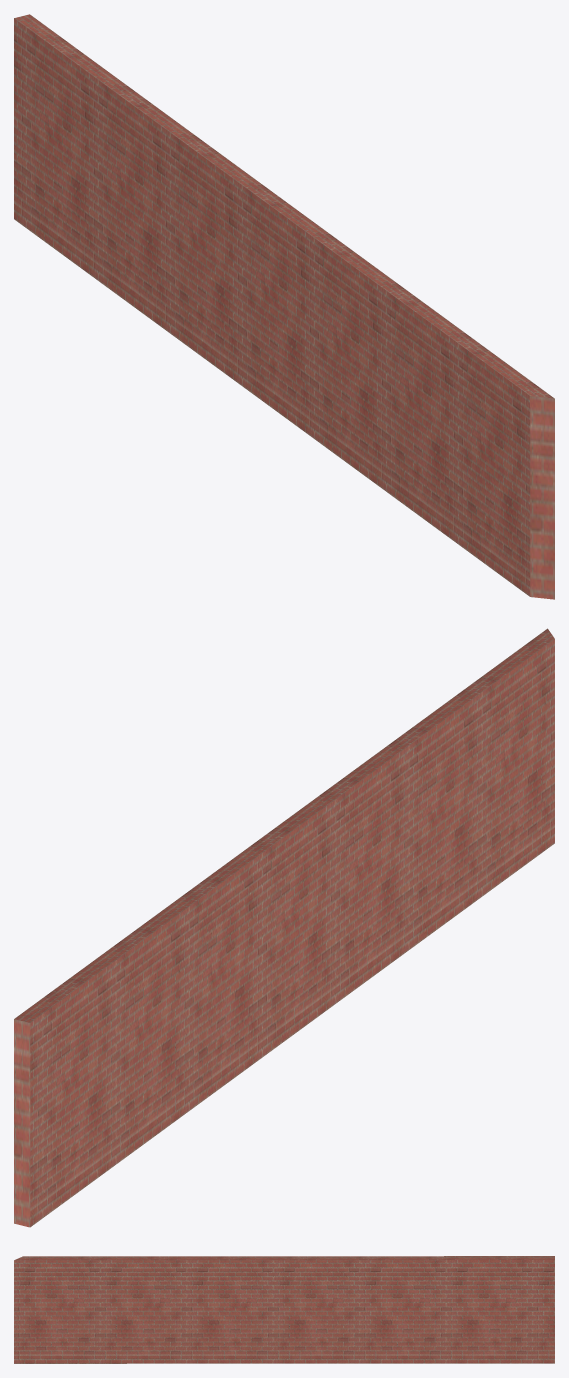
The model's file is BRCIKWALL07.glb.
3 views of the same model, one above another, from view 1: azimuth 30°, elevation 25°; view 2: azimuth 150°, elevation 25°; view 3: azimuth 270°, elevation 25° (orthographic). The views are drawn at different scales.
Visible parts, largest first — view 1: BRCIKWALL07; view 2: BRCIKWALL07; view 3: BRCIKWALL07.
Part boxes in pixels (box(x1,y1,x2,y2)): BRCIKWALL07: box(14, 14, 554, 599); BRCIKWALL07: box(14, 628, 554, 1227); BRCIKWALL07: box(14, 1256, 554, 1363).
Bounding box in the file's own units: 65.58 × 783 × 3705.
1 material, 1 textured.
